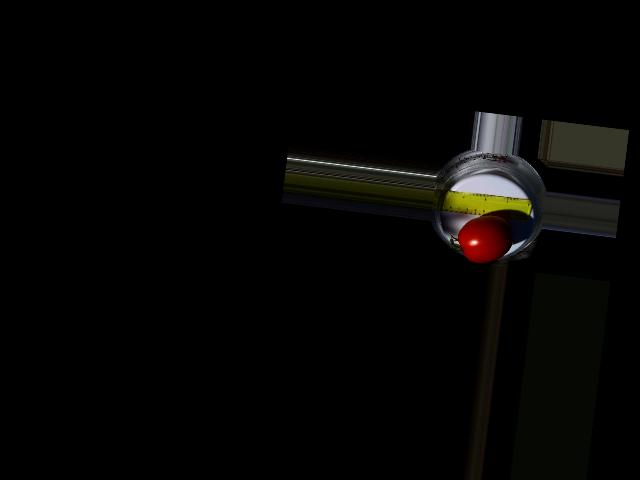tomato: (454, 210, 515, 267)
